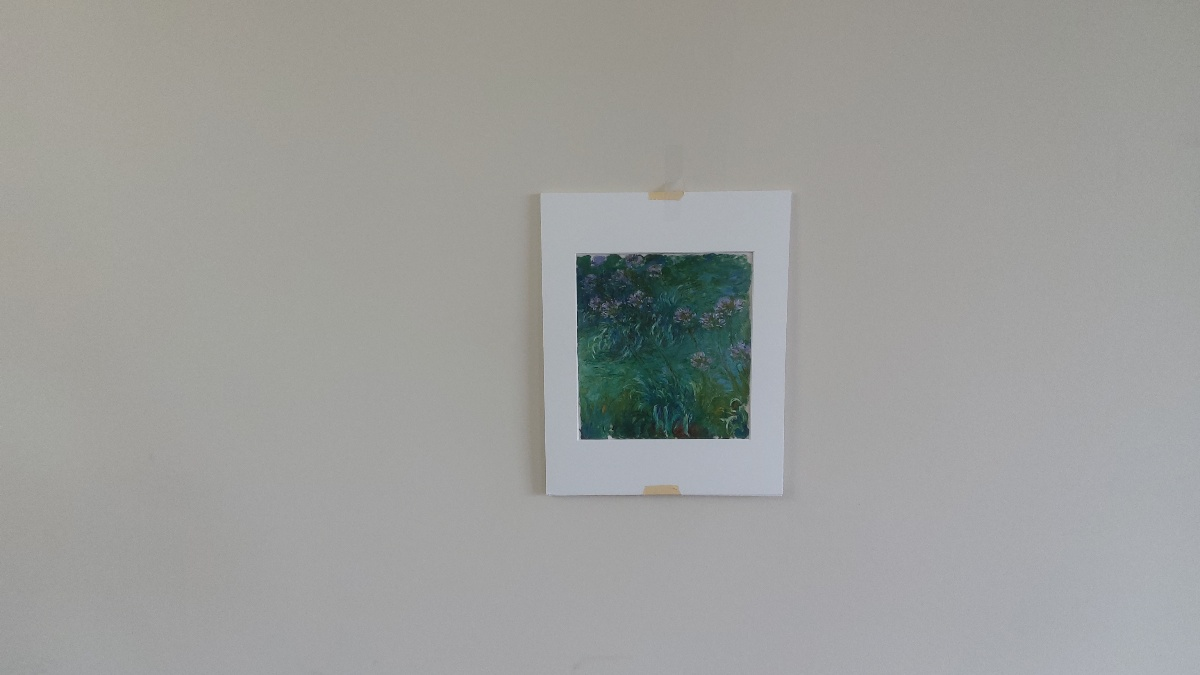painting: (563, 245, 766, 454)
